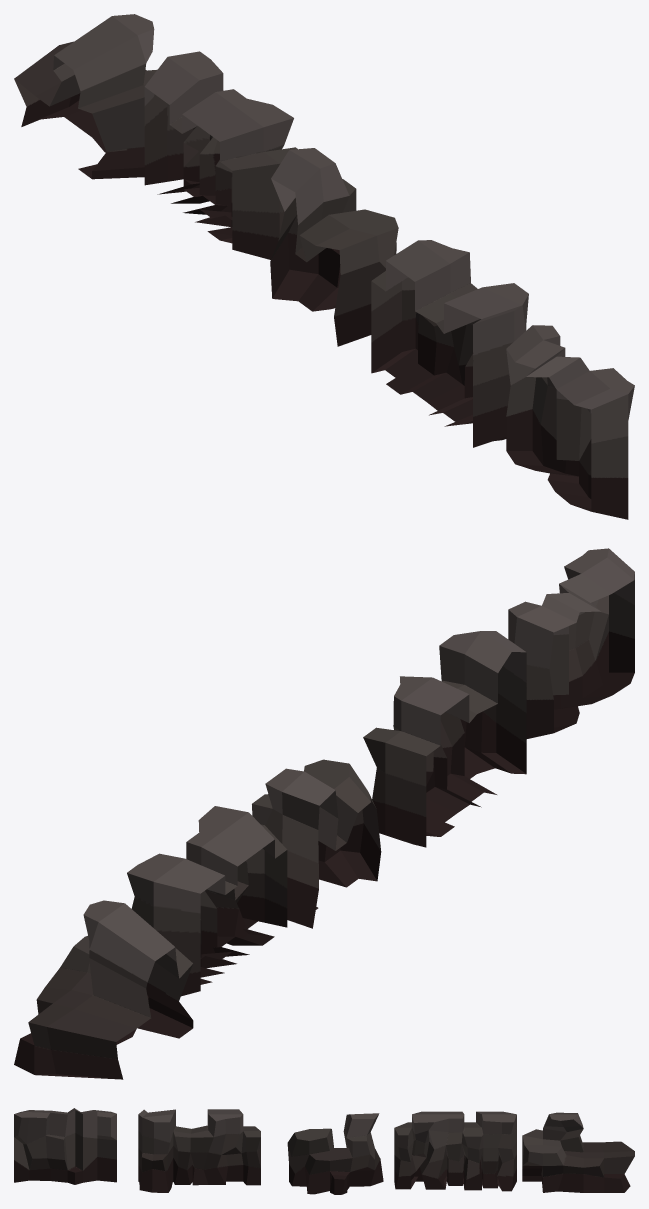
File: lavaRockWalls.obj
3 renders of one model, top to bottom at view 1: azimuth 30°, elevation 25°; view 2: azimuth 150°, elevation 25°; view 3: azimuth 270°, elevation 25°, orthographic. The views are drawn at different scales.
Visible parts, largest first — view 1: Wall_2, Wall_4, Wall_1, Wall_3, Wall_5; view 2: Wall_2, Wall_5, Wall_4, Wall_1, Wall_3; view 3: Wall_4, Wall_2, Wall_1, Wall_5, Wall_3.
Part boxes in pixels (bbox=[...]): Wall_2: bbox=[371, 240, 528, 447]; Wall_4: bbox=[144, 51, 297, 259]; Wall_1: bbox=[506, 325, 634, 519]; Wall_3: bbox=[270, 148, 398, 346]; Wall_5: bbox=[14, 14, 157, 179]; Wall_2: bbox=[363, 631, 526, 847]; Wall_5: bbox=[14, 900, 193, 1079]; Wall_4: bbox=[127, 806, 287, 996]; Wall_1: bbox=[508, 548, 634, 738]; Wall_3: bbox=[252, 759, 381, 928]; Wall_4: bbox=[394, 1111, 516, 1191]; Wall_2: bbox=[138, 1109, 260, 1192]; Wall_1: bbox=[14, 1108, 116, 1184]; Wall_5: bbox=[522, 1112, 634, 1192]; Wall_3: bbox=[287, 1113, 383, 1194].
Size of the model in its own units: 4.74 by 5.67 by 42.3.
1 material, 1 textured.
